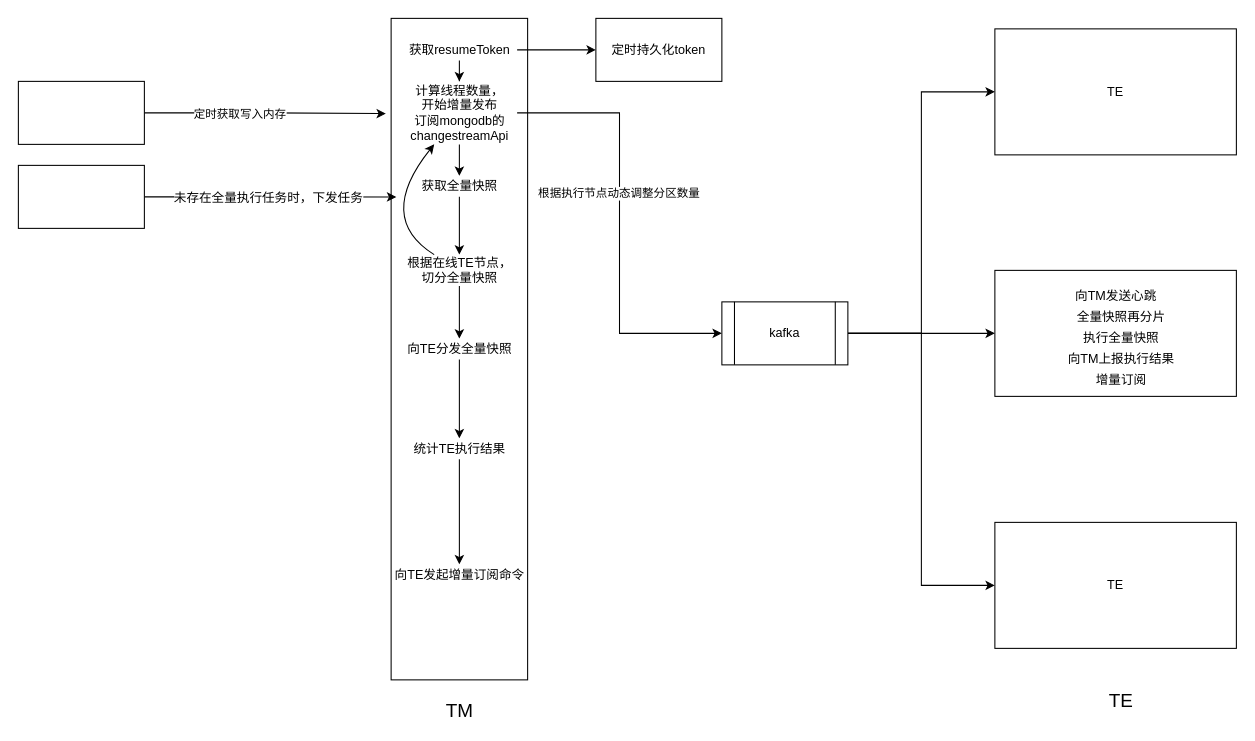
Image size: 1255x741. Some labels were removed from this diagram. The shapes that lost their labels are listed below. From the top down, each one's box as (x1, y1, x2, y2) in pixels, then its label:
(17, 80, 144, 144): 获取增量执行任务
(17, 164, 144, 228): 定时获取全量执行任务
